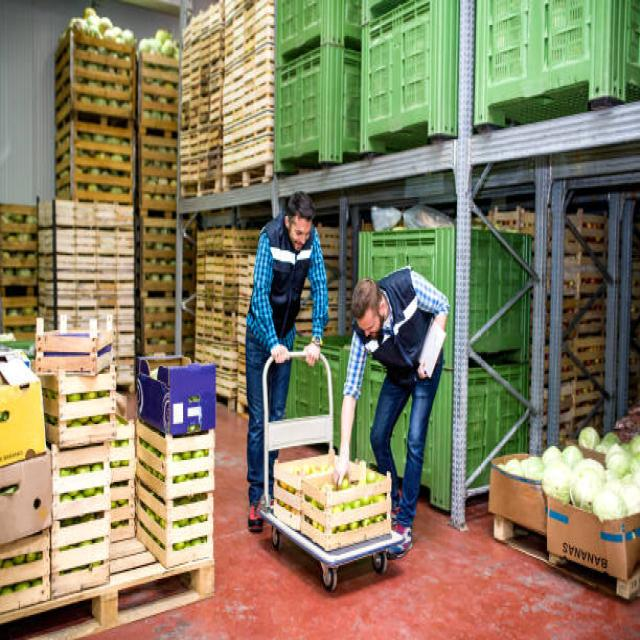Wooden-Pallets: (3, 558, 215, 640)
